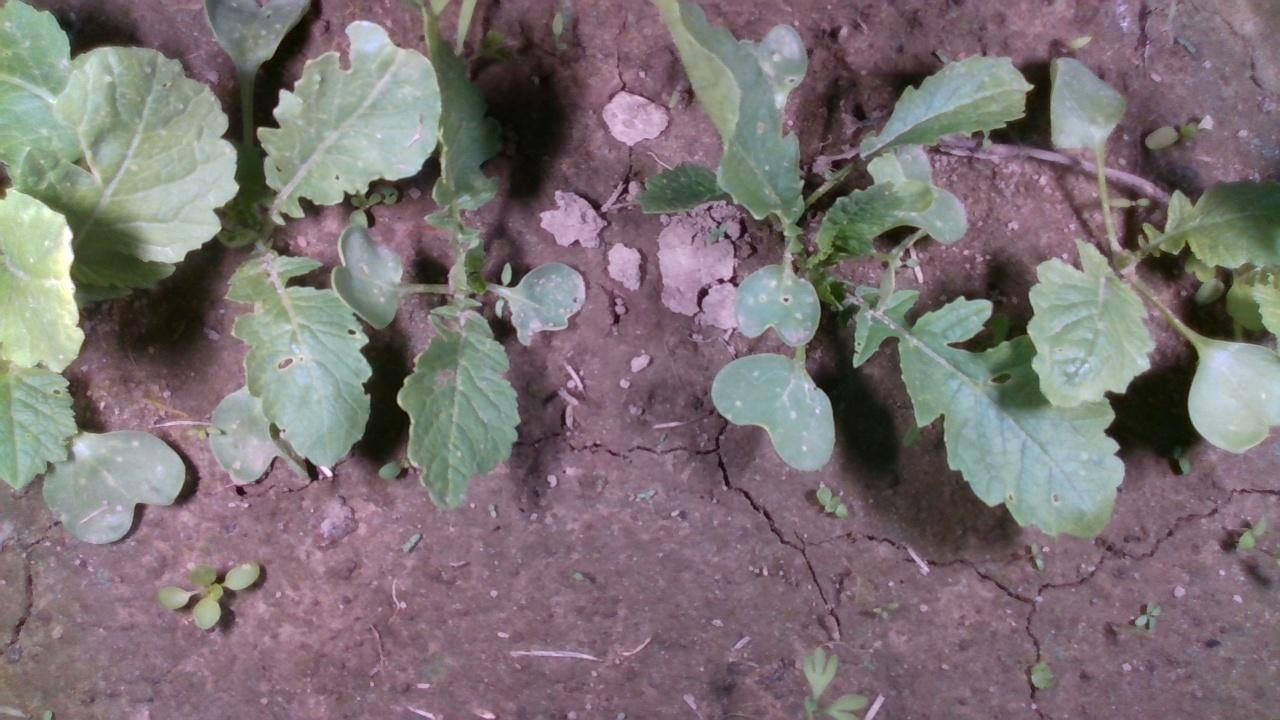weed: (484, 501, 497, 518)
